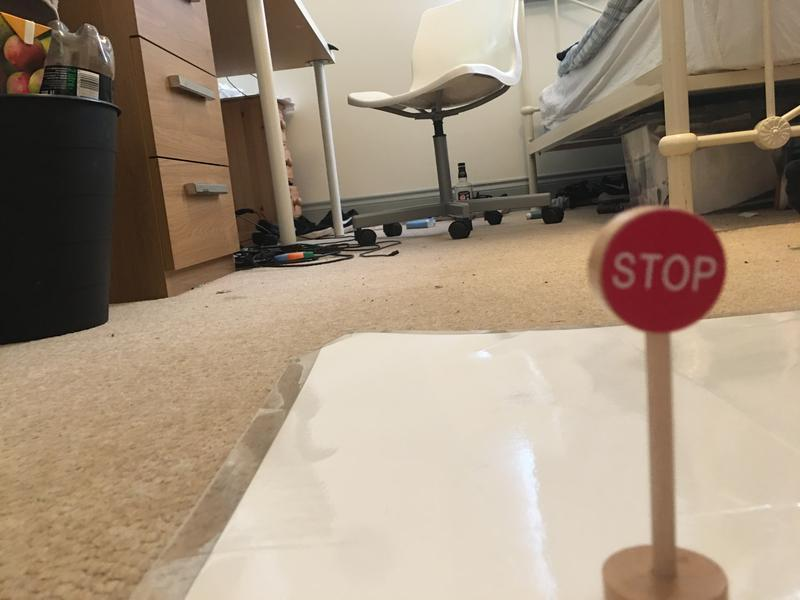Traffic_Sign_Stop: (594, 207, 728, 335)
